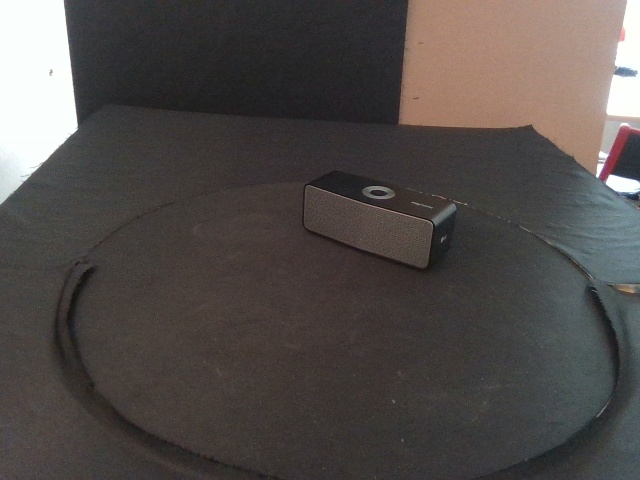speaker: (301, 169, 457, 271)
